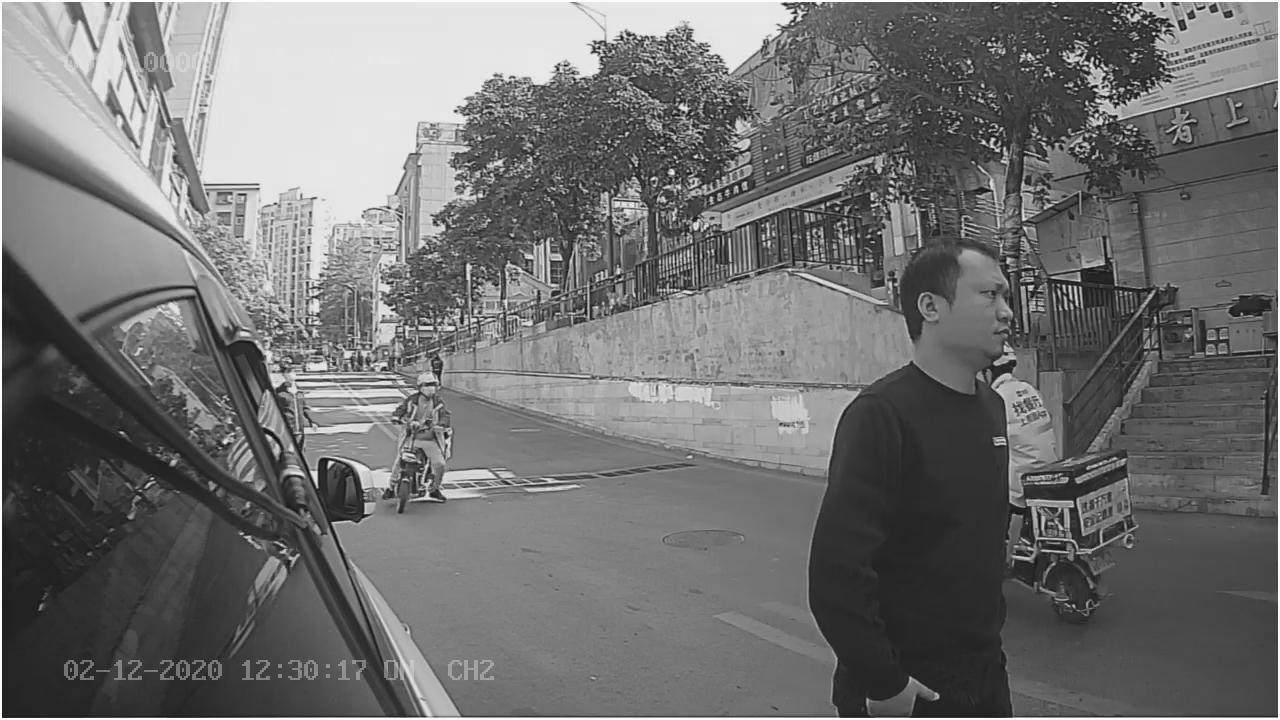person: (808, 231, 1013, 562)
